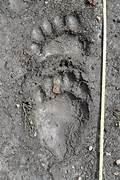bear: (21, 67, 96, 158), (23, 11, 91, 62)
